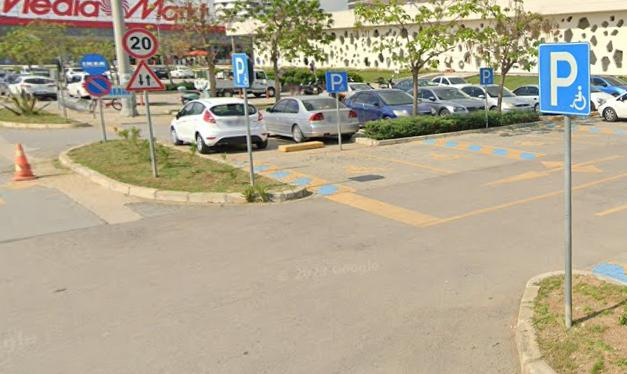disabledpark: (540, 45, 589, 114), (233, 53, 251, 88), (327, 71, 347, 91), (481, 68, 493, 84)
